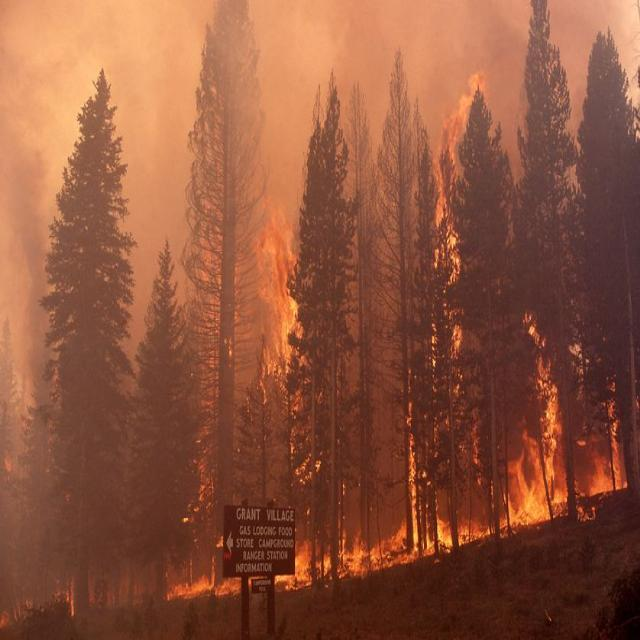Fire: (253, 213, 320, 409), (428, 118, 471, 409), (524, 372, 575, 550), (259, 528, 414, 586), (399, 422, 451, 564), (159, 560, 244, 618)
Smoke: (228, 4, 640, 512), (0, 0, 228, 509)
